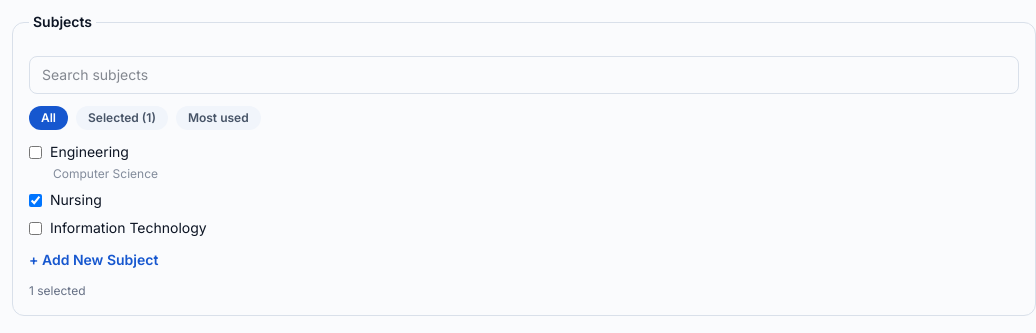
country taxonomy picker › filters to the selected subjects only
Click the button "Selected (1)" at (122, 118), box [76,106,168,130]
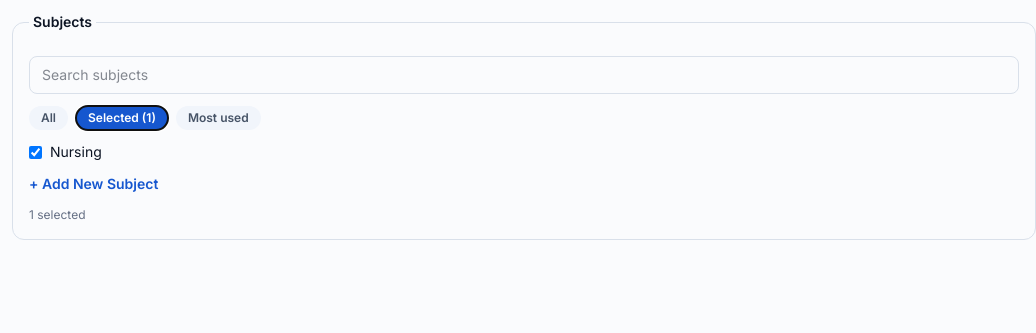
Expected: the checkbox labelled "Nursing" is shown, [29,146,42,158]
Expected: the text "Engineering" is gone
